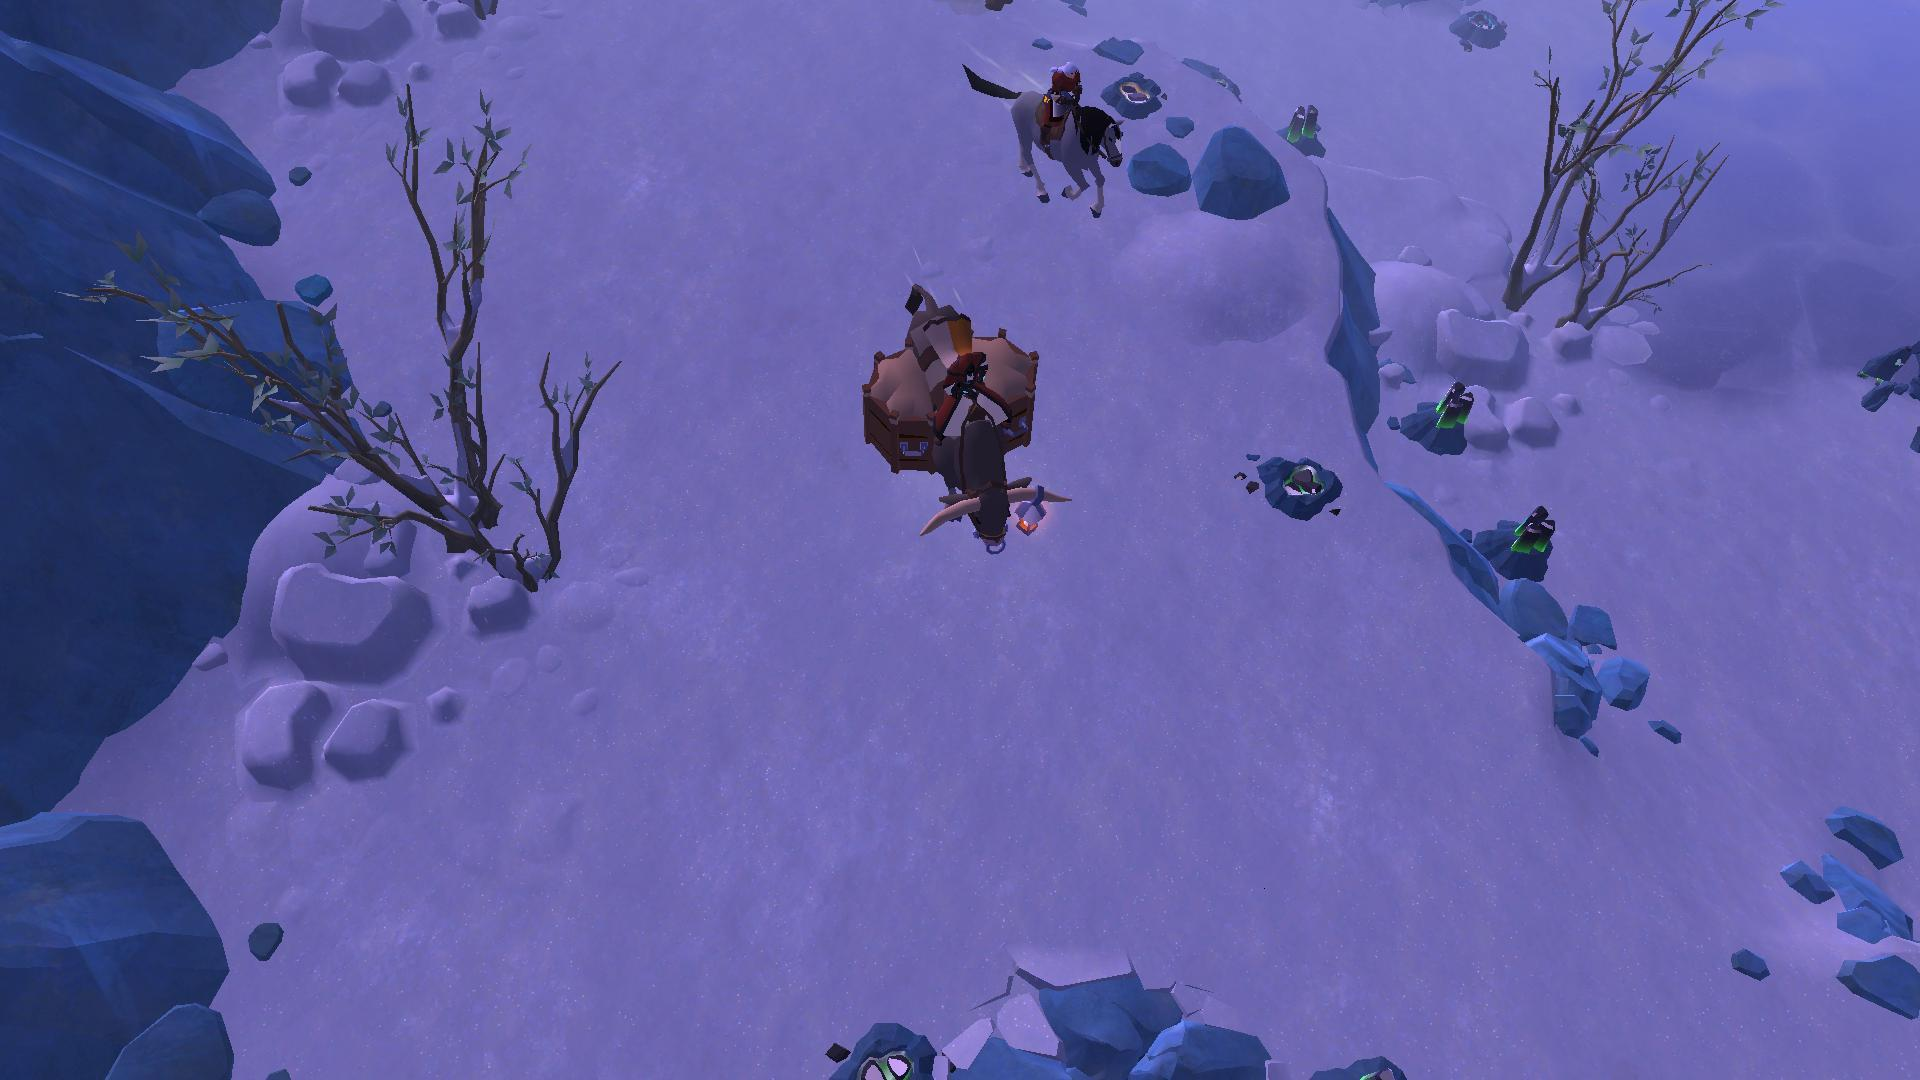ore_t3: (1506, 492, 1560, 562), (1432, 375, 1477, 443), (1279, 96, 1320, 150)
